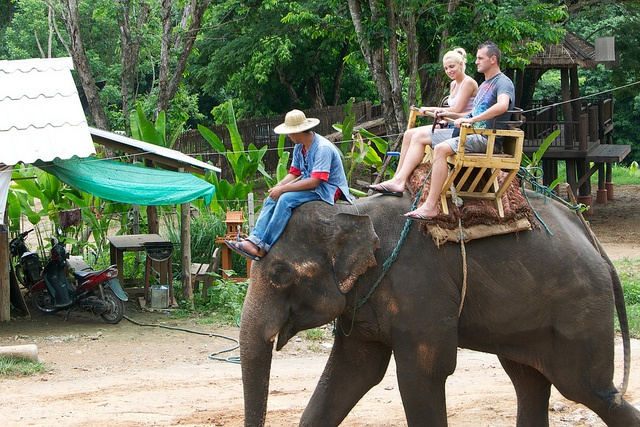non-vehicle: (30, 235, 128, 325), (9, 228, 42, 286)
